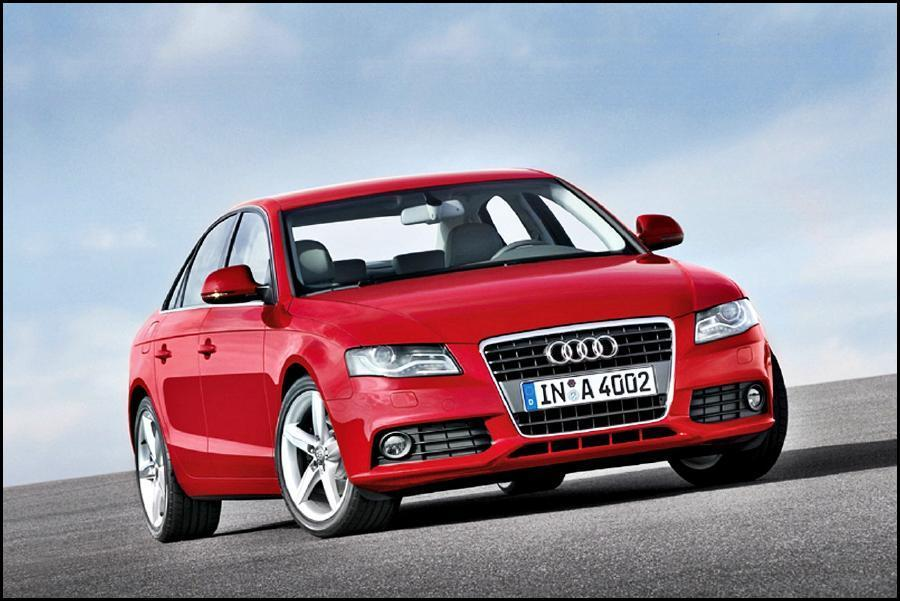Audi: (539, 330, 627, 375)
